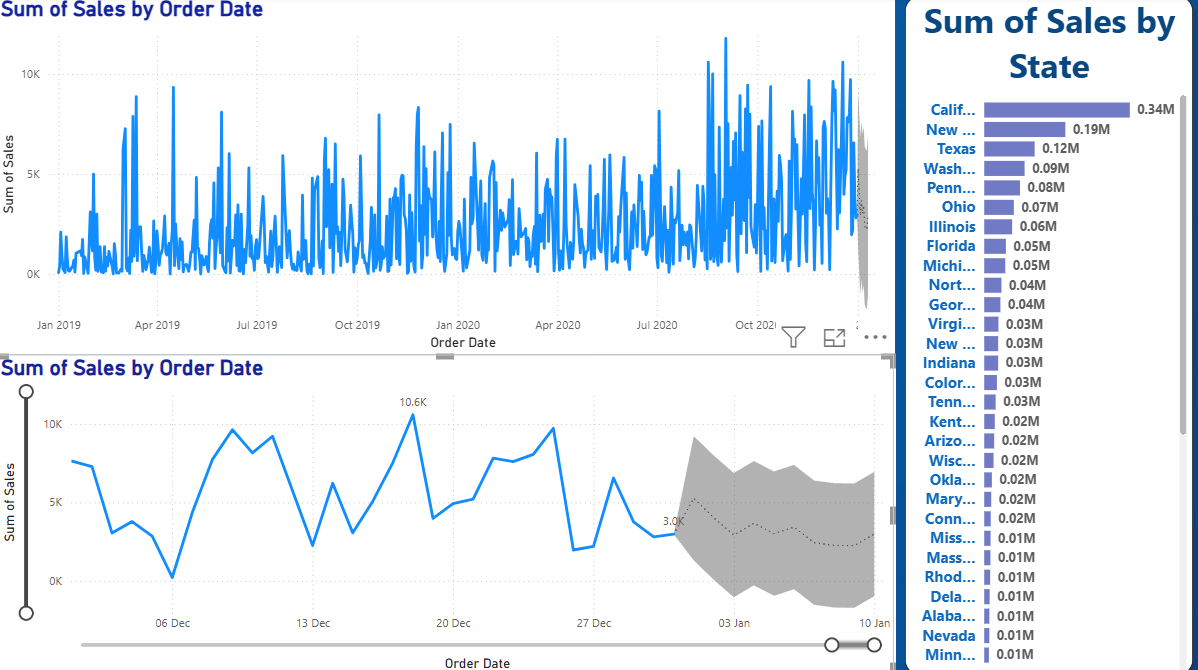

The dashboard page shown, as its layout file describes it:
{"tool":"powerbi","page":{"name":"Sales Forecast","canvas":[1280,720],"ordinal":1},"visuals":[{"type":"lineChart","fields":{"Y":["Sum(SuperStore_Sales_Dataset.Sales)"],"Category":["SuperStore_Sales_Dataset.Order Date"]},"box":[0,0,953.3,380],"z":0},{"type":"lineChart","fields":{"Y":["Sum(SuperStore_Sales_Dataset.Sales)"],"Category":["SuperStore_Sales_Dataset.Order Date"]},"box":[0,380,953.3,340],"z":1000},{"type":"barChart","fields":{"Y":["Sum(SuperStore_Sales_Dataset.Sales)"],"Category":["SuperStore_Sales_Dataset.State"]},"box":[963.3,0,305,720],"z":2000}]}

Visuals, with their boxes in screenshot pixels (x1, y1, x2, y2), scaled from the page's 1280x720 canvas onto the 1198x670 screenshot:
lineChart - Sum(SuperStore_Sales_Dataset.Sales) x SuperStore_Sales_Dataset.Order Date: [left=0, top=0, right=892, bottom=354]
lineChart - Sum(SuperStore_Sales_Dataset.Sales) x SuperStore_Sales_Dataset.Order Date: [left=0, top=354, right=892, bottom=669]
barChart - Sum(SuperStore_Sales_Dataset.Sales) x SuperStore_Sales_Dataset.State: [left=902, top=0, right=1187, bottom=669]
